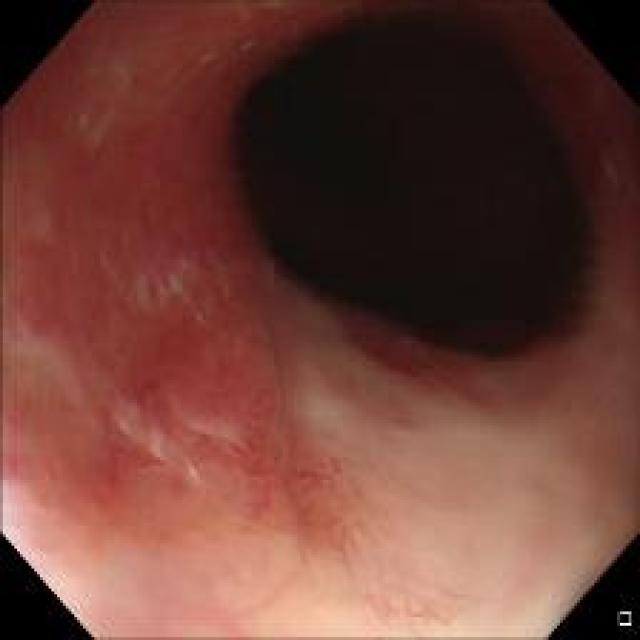blur: (291, 338, 598, 625), (24, 485, 394, 629)
contrast: (225, 8, 590, 351)
